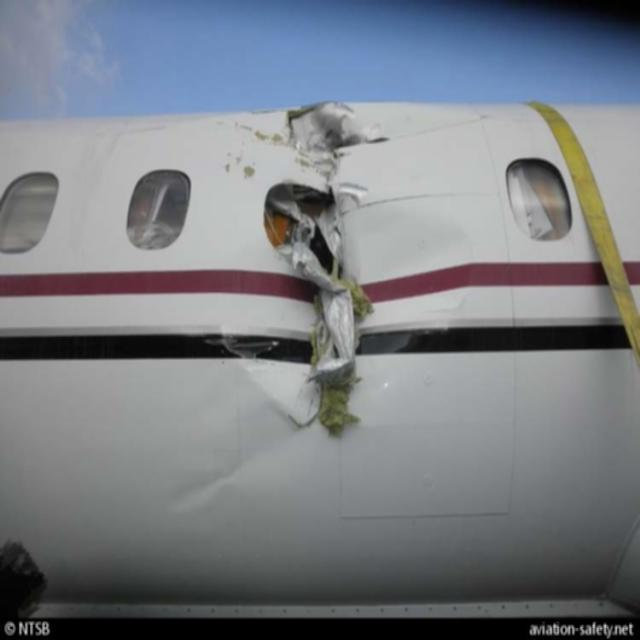crack: (258, 91, 396, 451)
dent: (373, 201, 472, 351), (169, 430, 310, 519)
